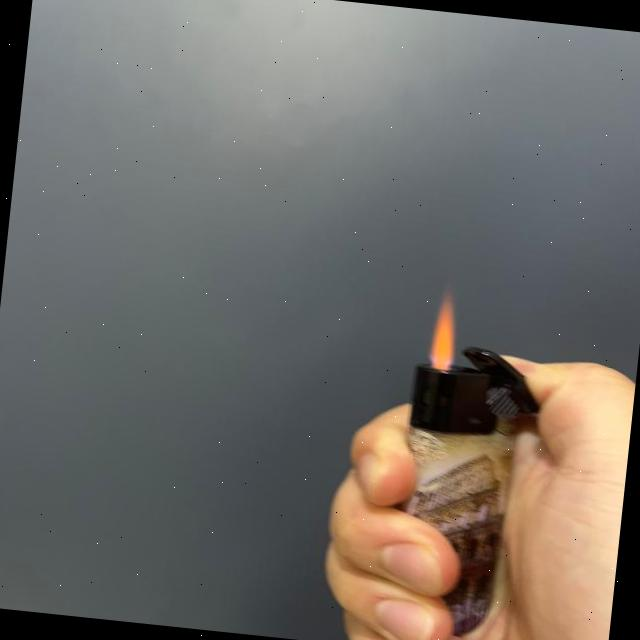fire: (424, 294, 464, 368)
